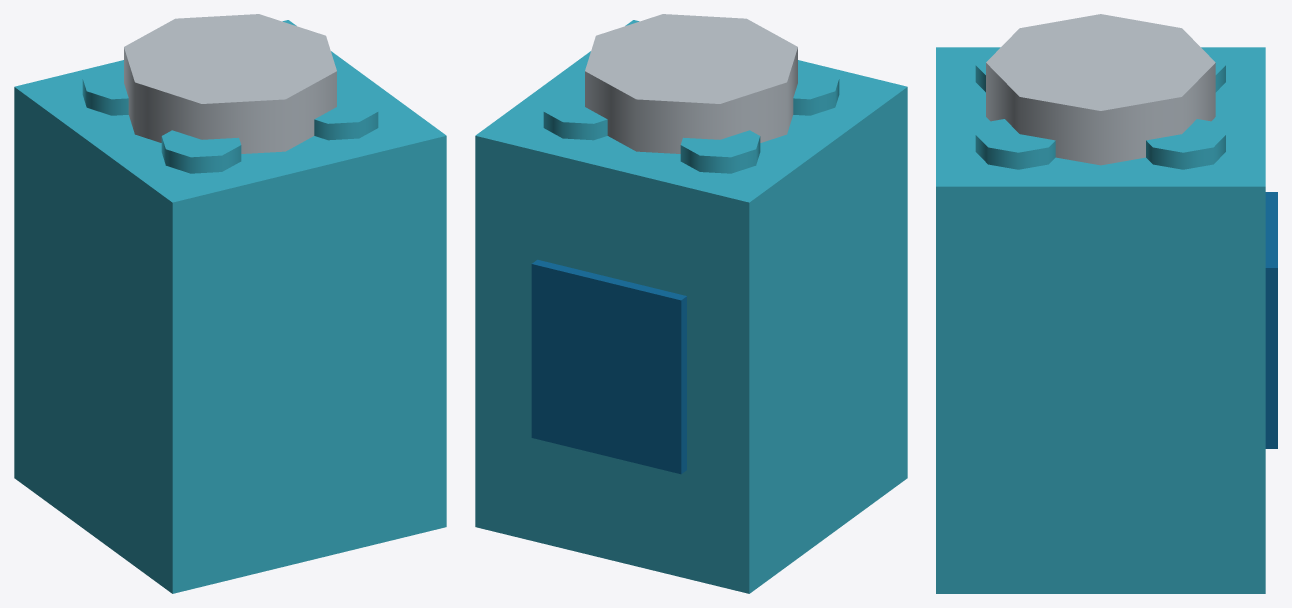
Rendered from LegoChug.glb.
3 views of the same model, side by side, from view 1: azimuth 30°, elevation 25°; view 2: azimuth 150°, elevation 25°; view 3: azimuth 270°, elevation 25° (orthographic). The views are drawn at different scales.
Parts seen in each view (by area): view 1: LegoChug; view 2: LegoChug; view 3: LegoChug.
Boxes of the visible parts, <box> form: LegoChug: <box>14,14,446,593</box>; LegoChug: <box>475,14,907,593</box>; LegoChug: <box>936,14,1277,593</box>.
Size of the model in its own units: 0.363 by 0.561 by 0.3765.
